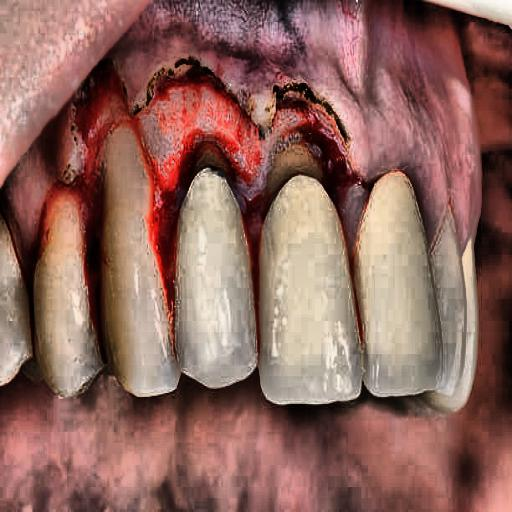Gingivitis: (64, 47, 382, 220)
